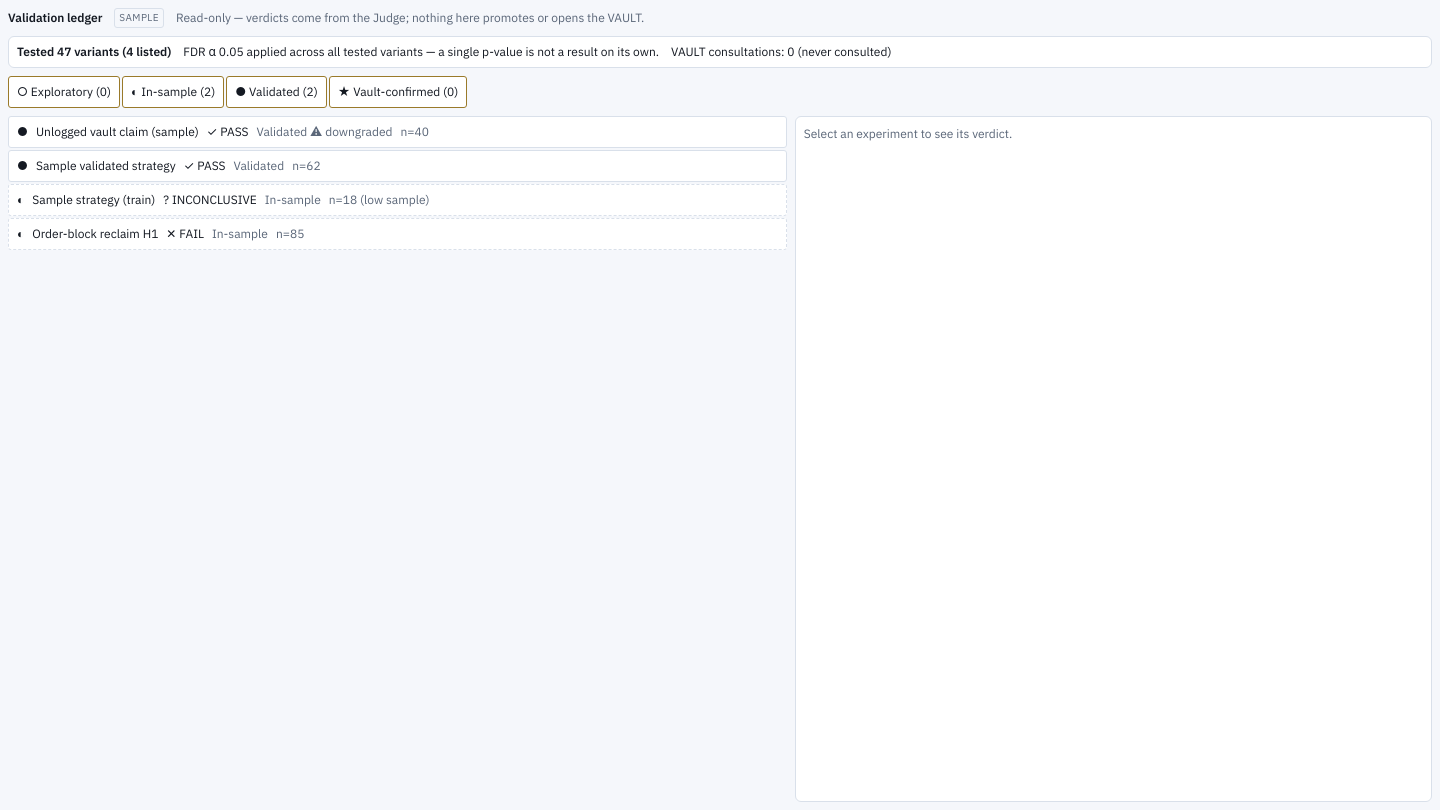
Test: F14 AnalyticsRoot (UI, read-only) › selecting shows the verdict; a downgraded tier is flagged, never silent
Click the button "Unlogged vault claim".
click(117, 132)  # box [8,116,787,148]
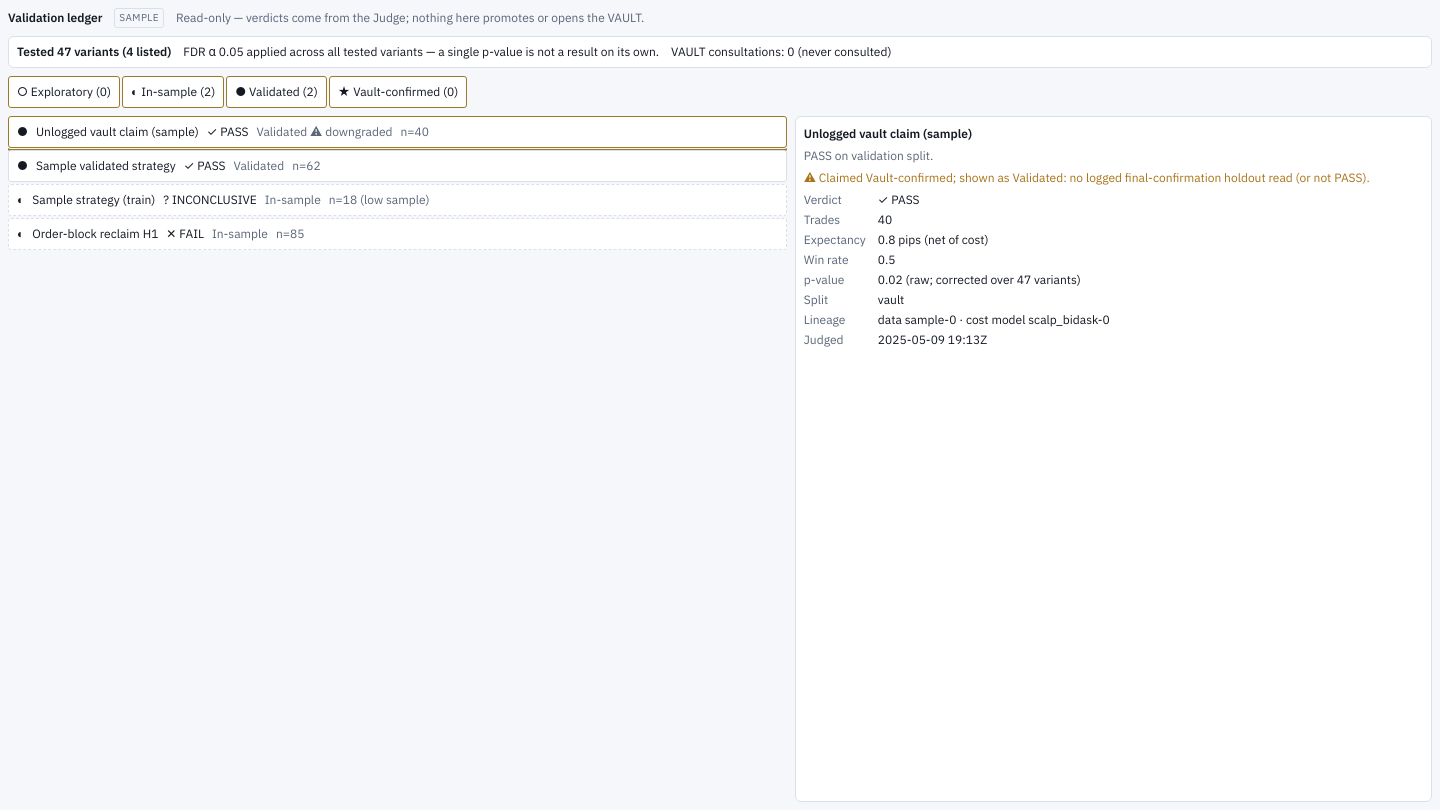
Now the element named "Experiment detail" shows "Claimed Vault-confirmed; shown as Validated", box [795,116,1432,802]
Now the element named "Experiment detail" shows "corrected over 47 variants", box [795,116,1432,802]
Click the button "Sample strategy (train)".
click(397, 200)  # box [8,184,787,216]
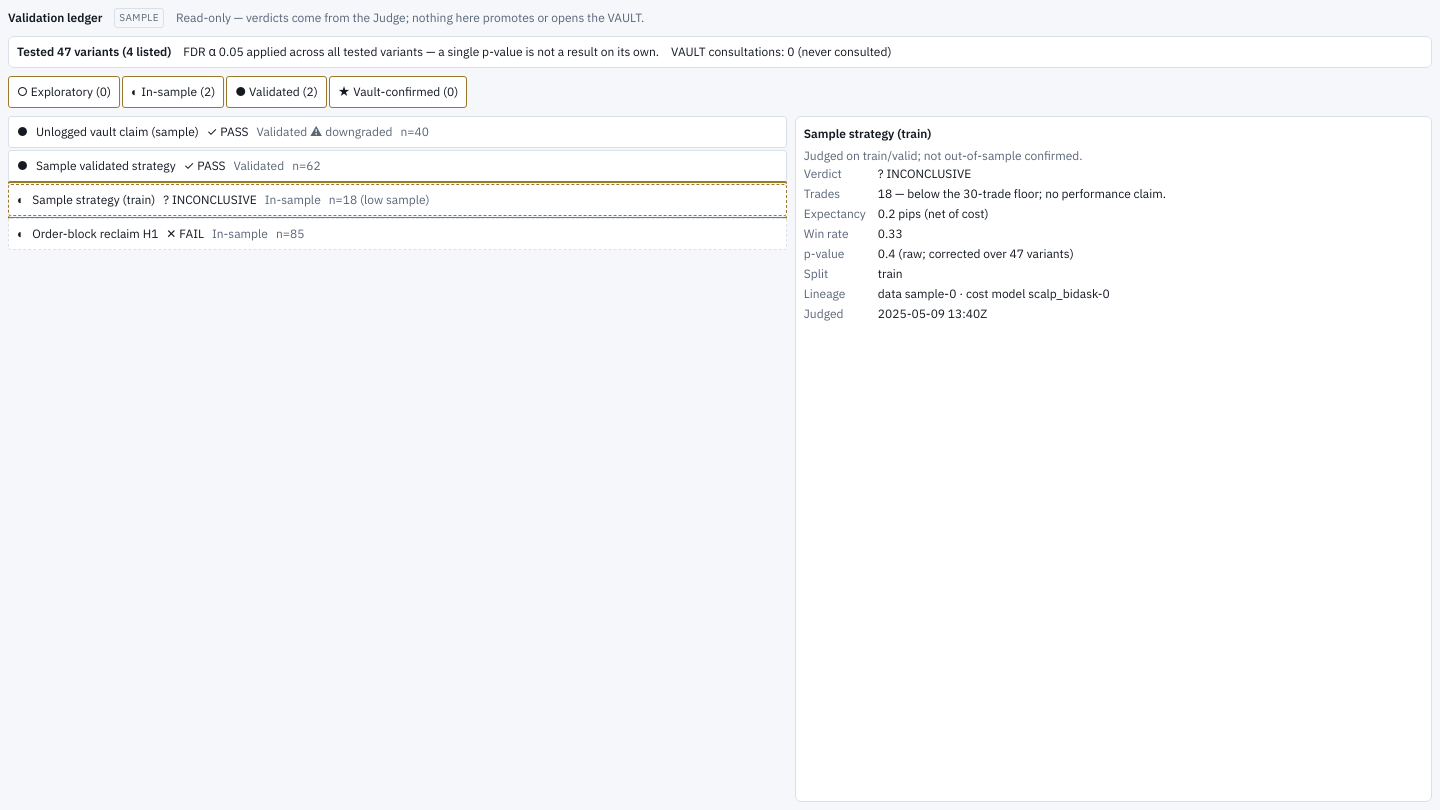
Now the element named "Experiment detail" shows "below the 30-trade floor", box [892,186,1166,201]
